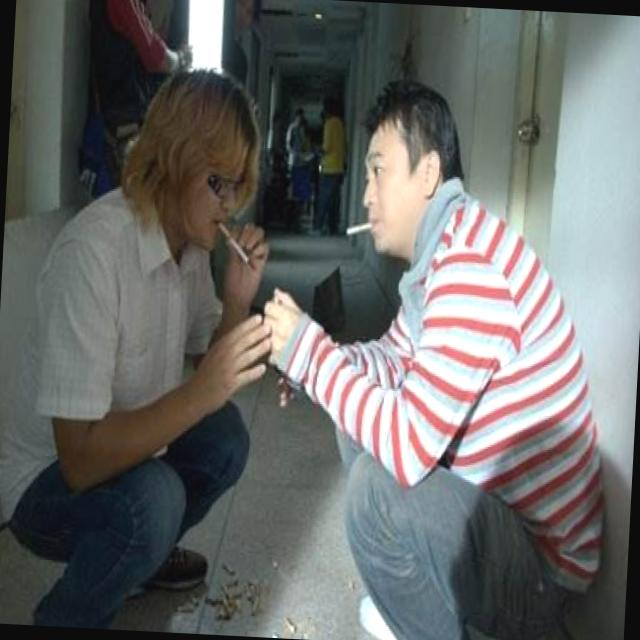smoke: (209, 220, 261, 274), (344, 210, 378, 244)
